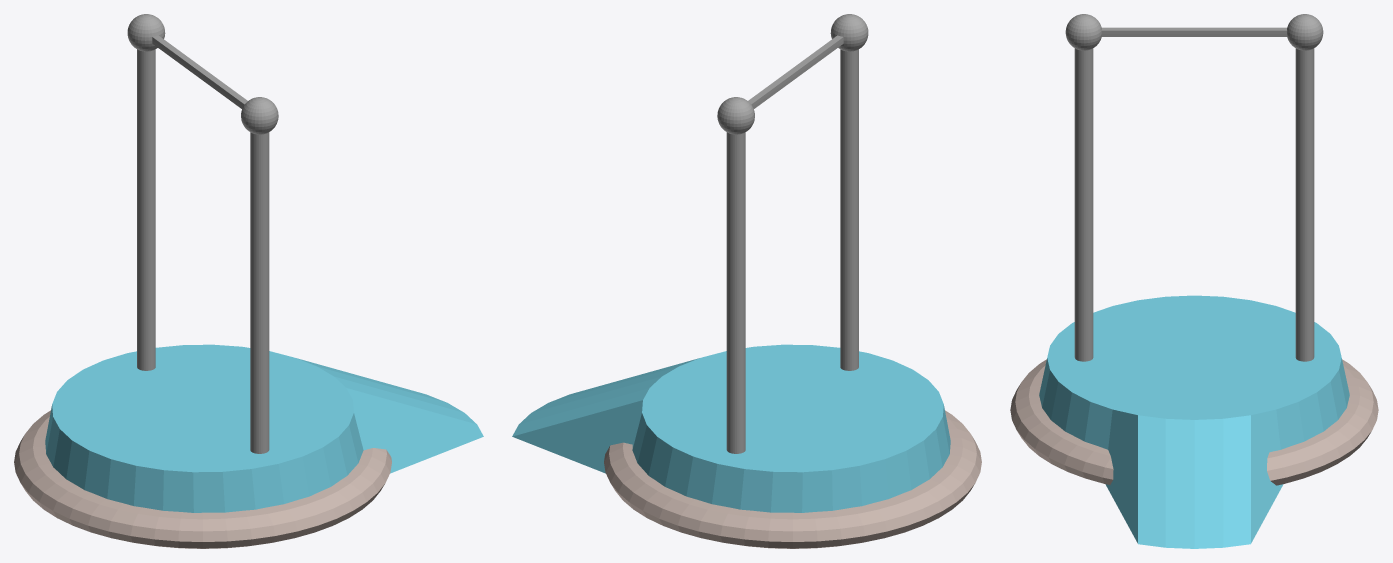
Rendered from Teleporter.fbx.
3 views of the same model, side by side, from view 1: azimuth 30°, elevation 25°; view 2: azimuth 150°, elevation 25°; view 3: azimuth 270°, elevation 25° (orthographic). The views are drawn at different scales.
Visible parts, largest first — view 1: Cylinder, Torus, Cylinder.001, Cylinder.002, Sphere.001, Sphere; view 2: Cylinder, Torus, Cylinder.002, Cylinder.001, Sphere.001, Sphere; view 3: Cylinder, Torus, Cylinder.001, Cylinder.002, Sphere.001, Sphere.
Part boxes in pixels (box(x1,y1,x2,y2)): Cylinder: box(45, 344, 483, 512); Torus: box(14, 410, 391, 548); Cylinder.001: box(250, 132, 269, 453); Cylinder.002: box(137, 49, 155, 370); Sphere.001: box(152, 35, 278, 134); Sphere: box(127, 14, 165, 51); Cylinder: box(512, 344, 950, 512); Torus: box(604, 410, 981, 548); Cylinder.002: box(726, 132, 745, 453); Cylinder.001: box(840, 49, 858, 370); Sphere.001: box(748, 14, 868, 108); Sphere: box(717, 97, 754, 134); Cylinder: box(1039, 295, 1349, 548); Torus: box(1010, 359, 1378, 485); Cylinder.001: box(1074, 48, 1093, 361); Cylinder.002: box(1295, 48, 1314, 361); Sphere.001: box(1065, 14, 1287, 50); Sphere: box(1287, 14, 1323, 50).
Bounding box in the file's own units: 1300 × 1232 × 1000.
